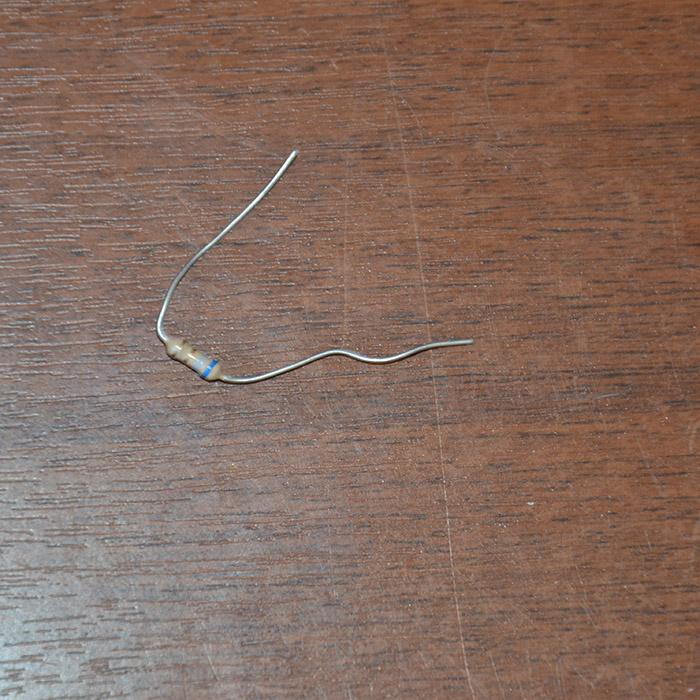resistor: (163, 336, 220, 381)
